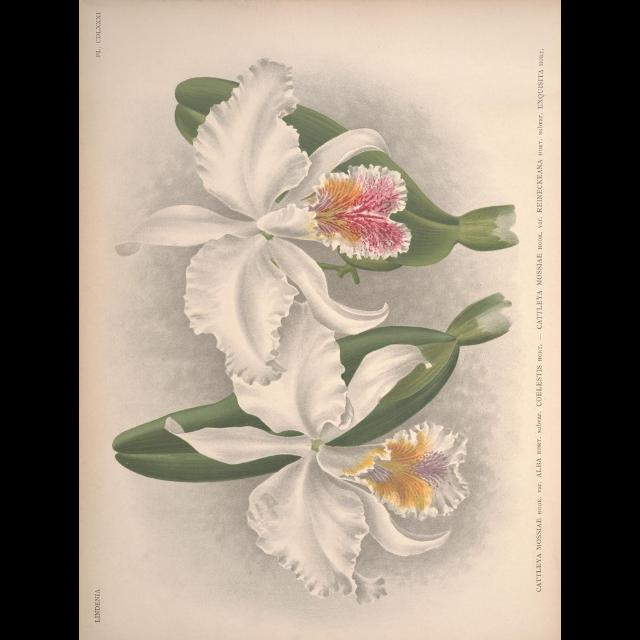Flower: (162, 302, 470, 606), (132, 68, 404, 336)
